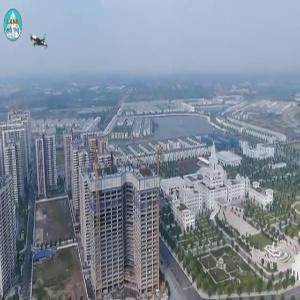drone: (9, 10, 76, 77)
